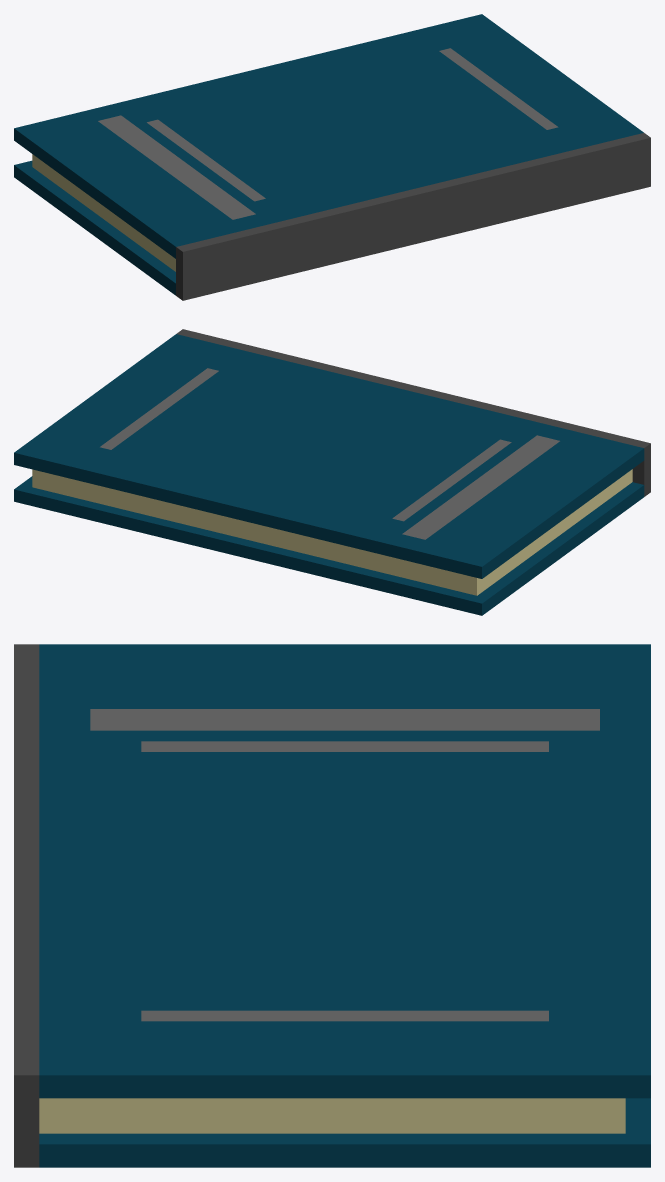
File: Book01.gltf
The picture shows the model from 3 angles, top to bottom: view 1: azimuth 30°, elevation 25°; view 2: azimuth 150°, elevation 25°; view 3: azimuth 270°, elevation 25°; orthographic projection. The views are drawn at different scales.
Visible parts, largest first — view 1: Layer.1; view 2: Layer.1; view 3: Layer.1.
Boxes of the visible parts, bbox=[...] form: Layer.1: bbox=[14, 14, 650, 300]; Layer.1: bbox=[14, 329, 650, 615]; Layer.1: bbox=[14, 644, 650, 1167].
Bounding box in the file's own units: 40 × 4 × 25.
